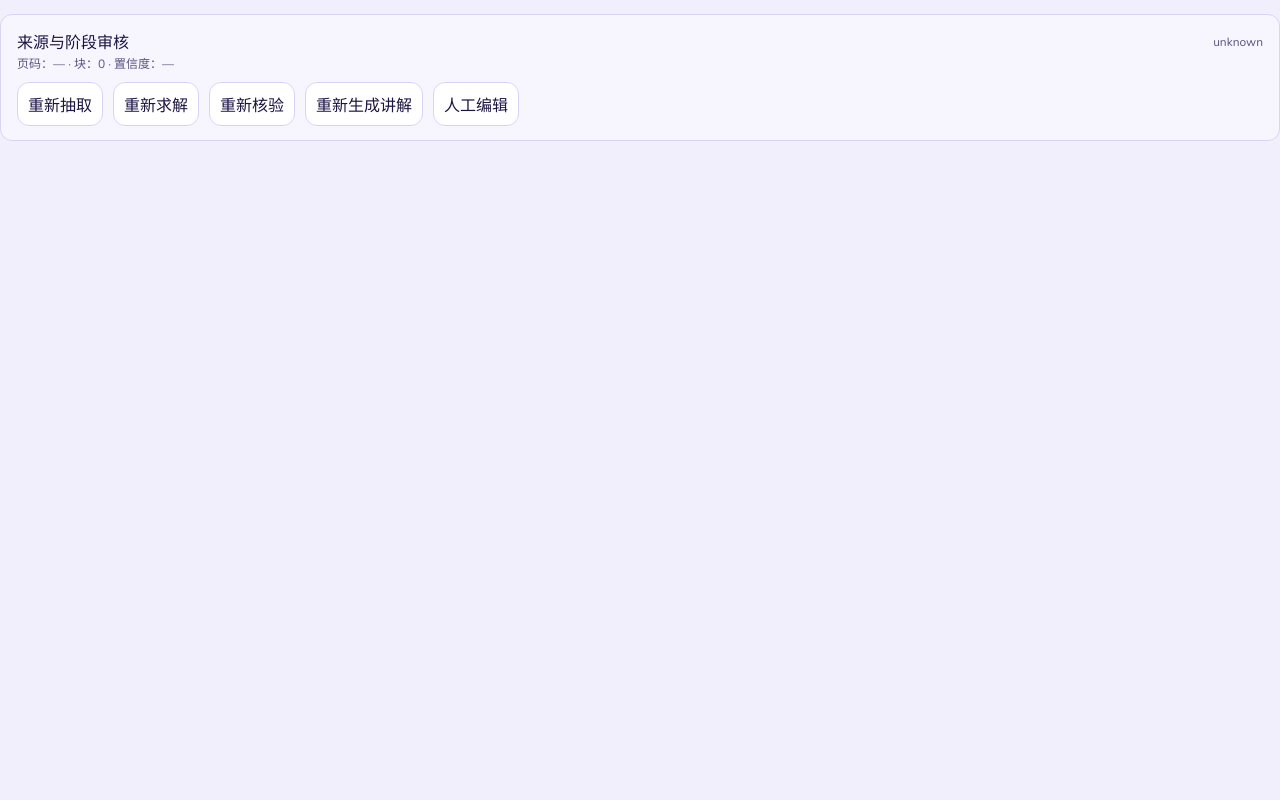
it: QuestionReviewPanel › 编辑题干并保存后回填新版本并把新题目回传给父组件
Click the button "人工编辑" at (476, 104), box top-left (433, 82), bottom-right (519, 126)
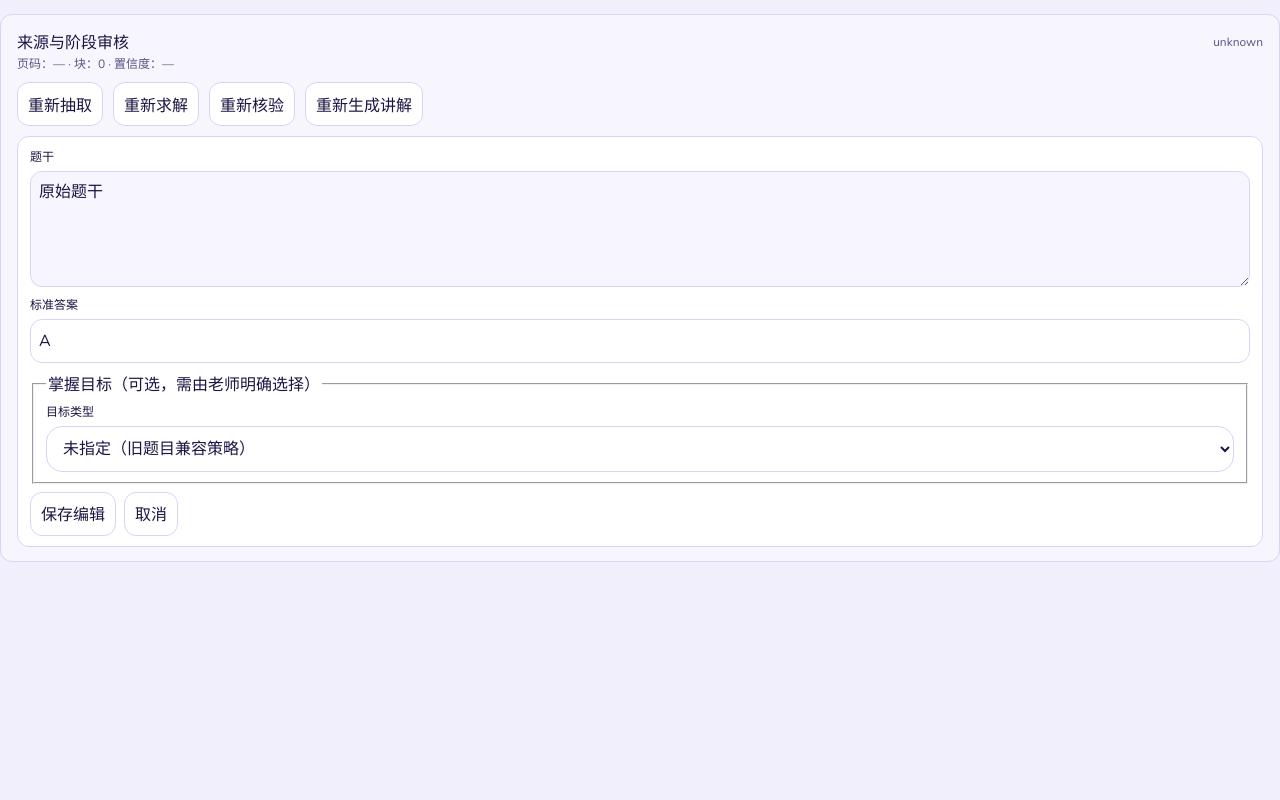
Replace the text in the text box labelled "题干" with "老师改写后的题干" at (640, 229), box top-left (30, 171), bottom-right (1250, 287)
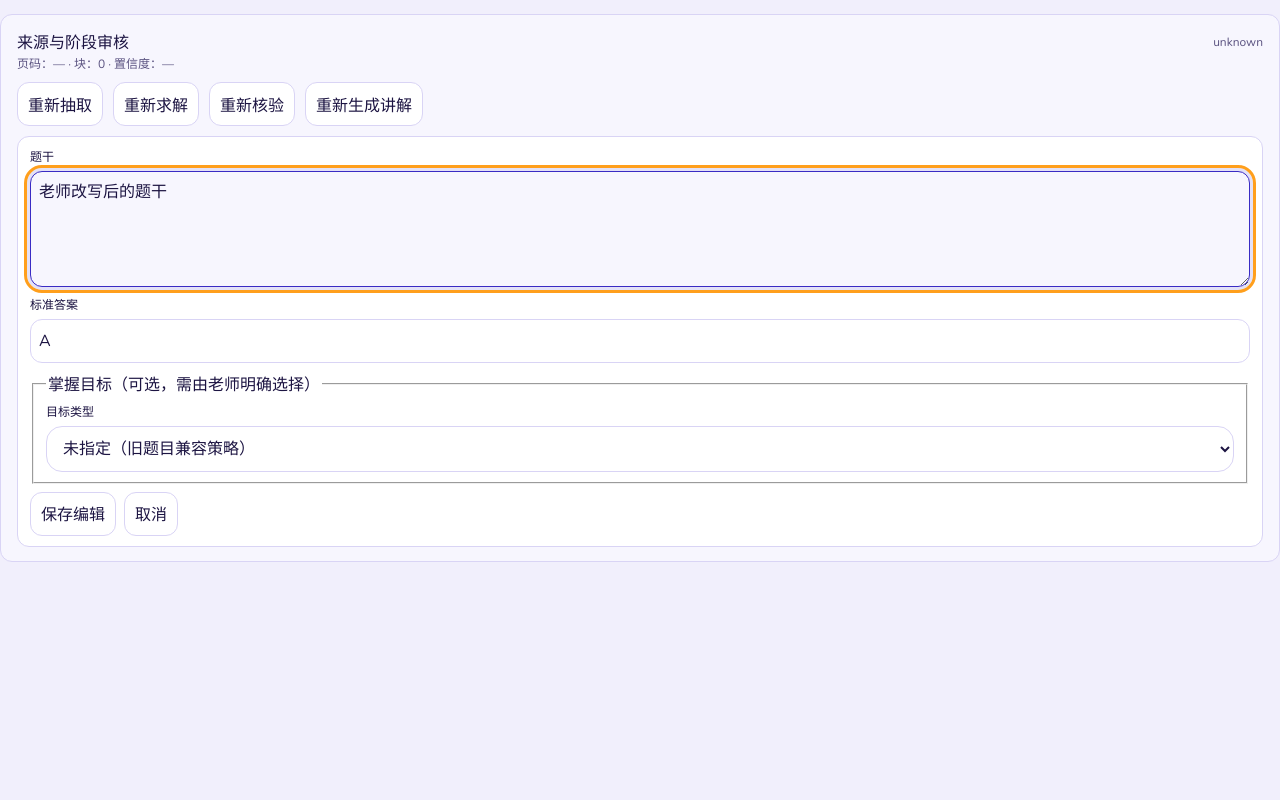
Click the button "保存编辑" at (73, 514), box top-left (30, 492), bottom-right (116, 536)
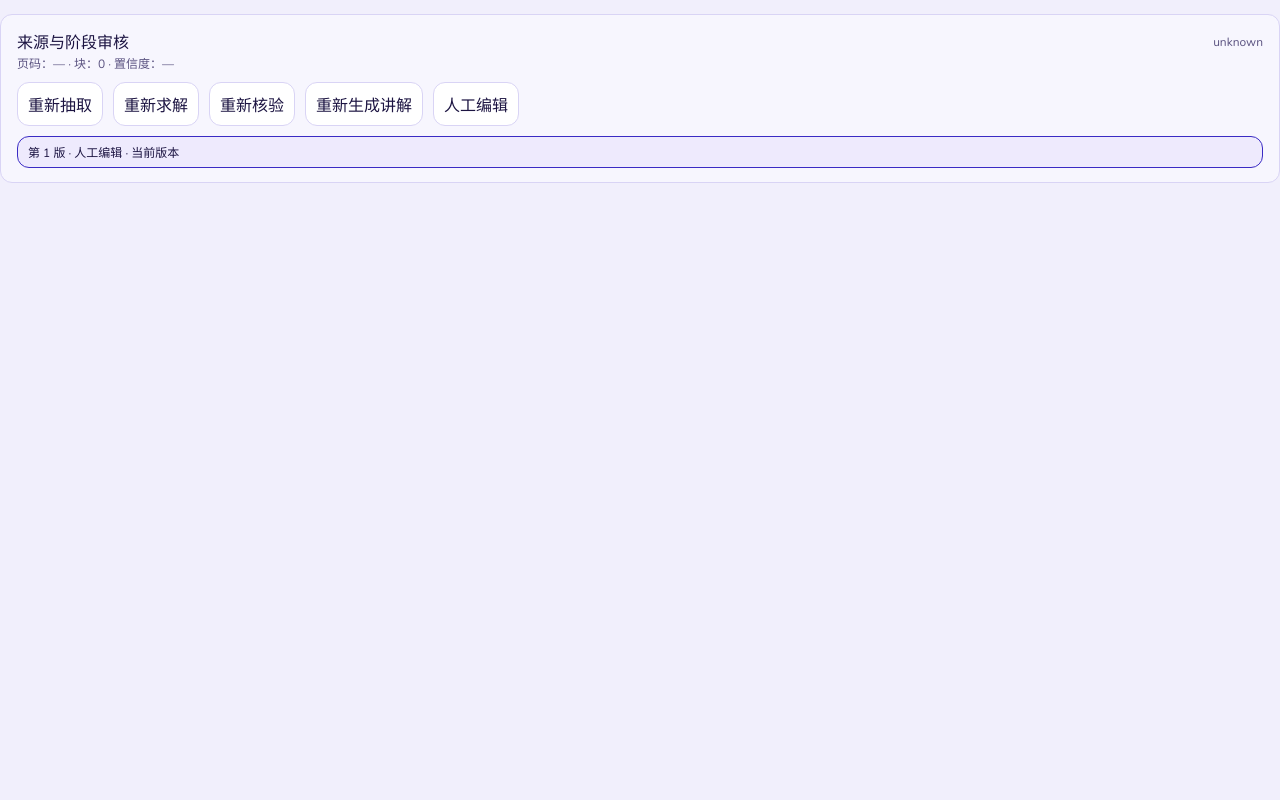
Now the text "第 1 版 · 人工编辑 · 当前版本" is shown, box top-left (28, 143), bottom-right (179, 161)
Now the label labelled "题干" is gone
